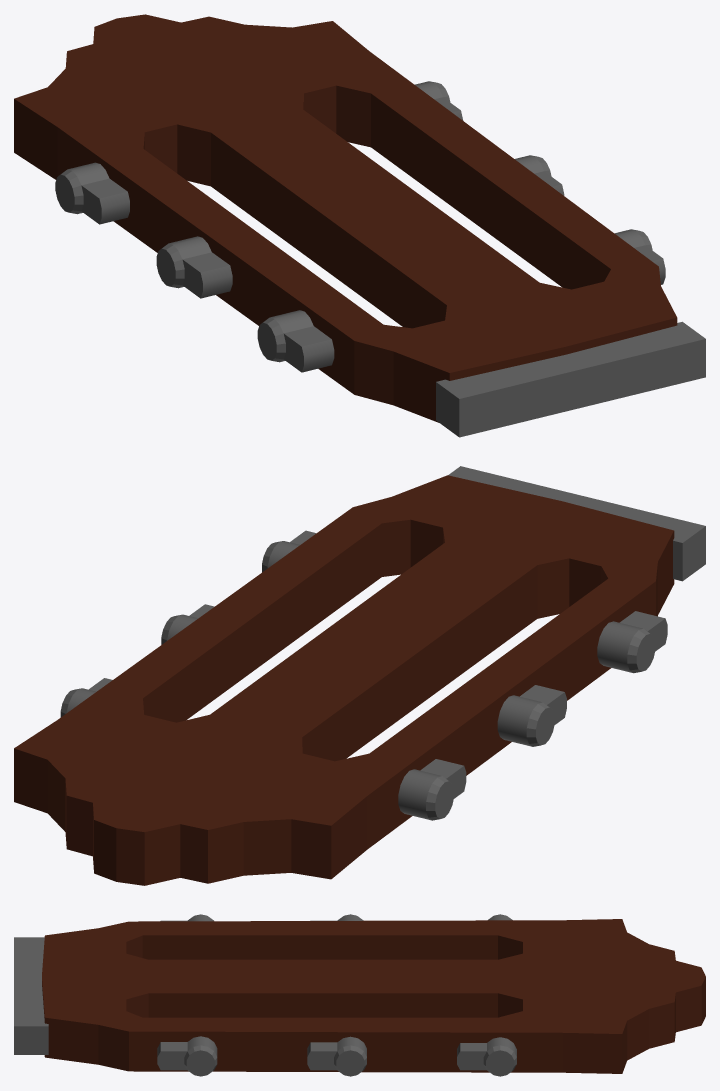
The model's file is GuitarePart3.fbx.
3 views of the same model, one above another, from view 1: azimuth 30°, elevation 25°; view 2: azimuth 150°, elevation 25°; view 3: azimuth 270°, elevation 25° (orthographic). The views are drawn at different scales.
Visible parts, largest first — view 1: GuitarePart3; view 2: GuitarePart3; view 3: GuitarePart3.
Part boxes in pixels (box(x1,y1,x2,y2)): GuitarePart3: box(14, 14, 705, 437); GuitarePart3: box(14, 466, 705, 885); GuitarePart3: box(14, 914, 705, 1076).
Size of the model in its own units: 15.23 by 2.09 by 32.74.
